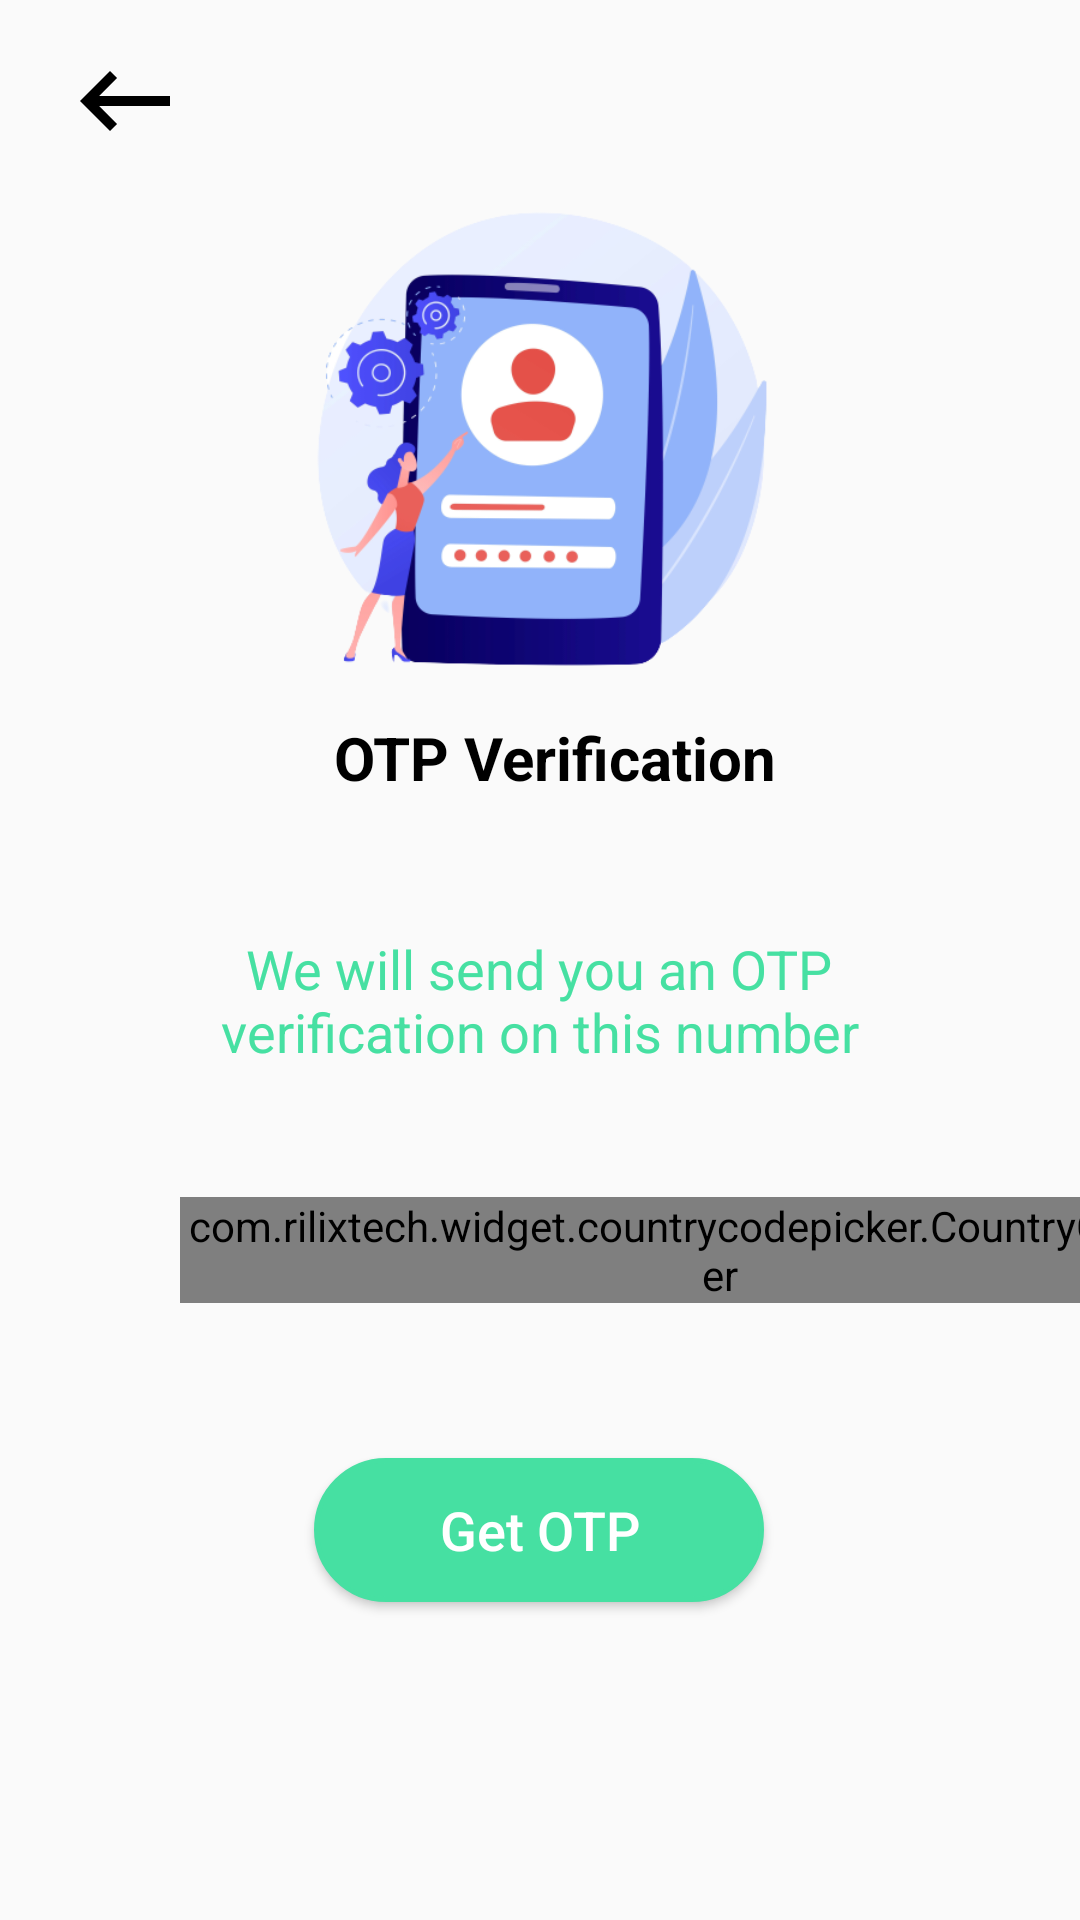

Locate icon controls on the screen. Image size 1080 x 1920, boxes as (x1,y1,x2,y2).
backbtn: (80,71,170,131)
